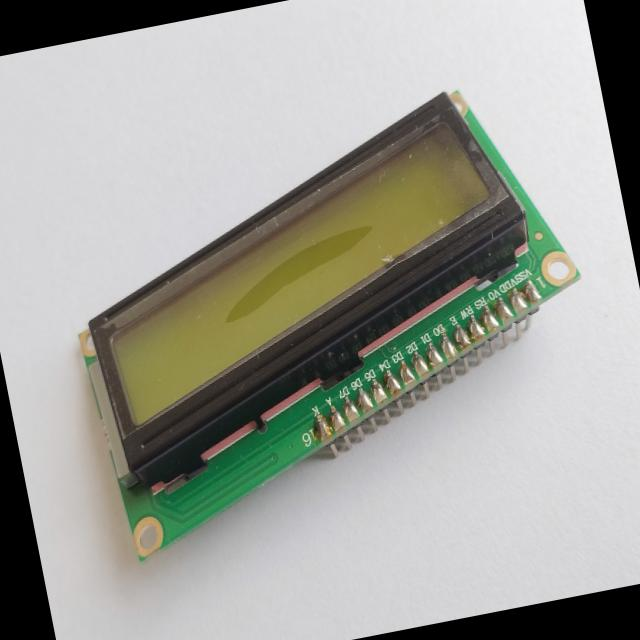lcd: (44, 70, 618, 566)
